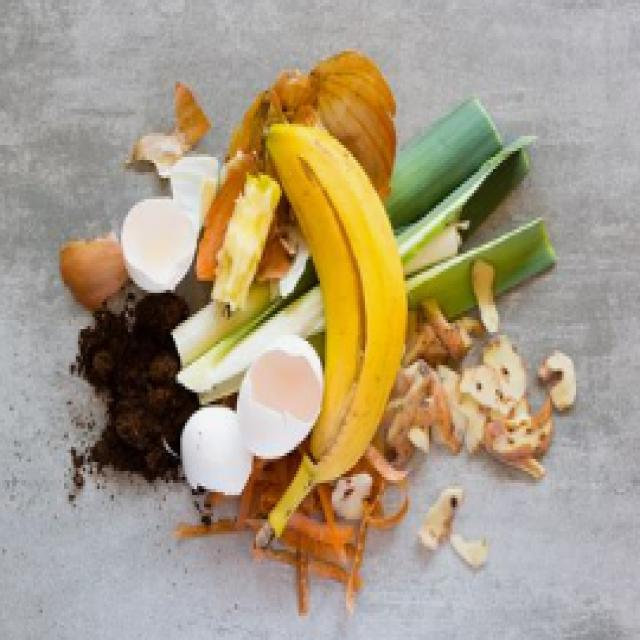paper: (268, 109, 402, 498), (238, 331, 327, 462), (65, 219, 148, 333), (116, 190, 190, 300), (110, 369, 172, 463)
